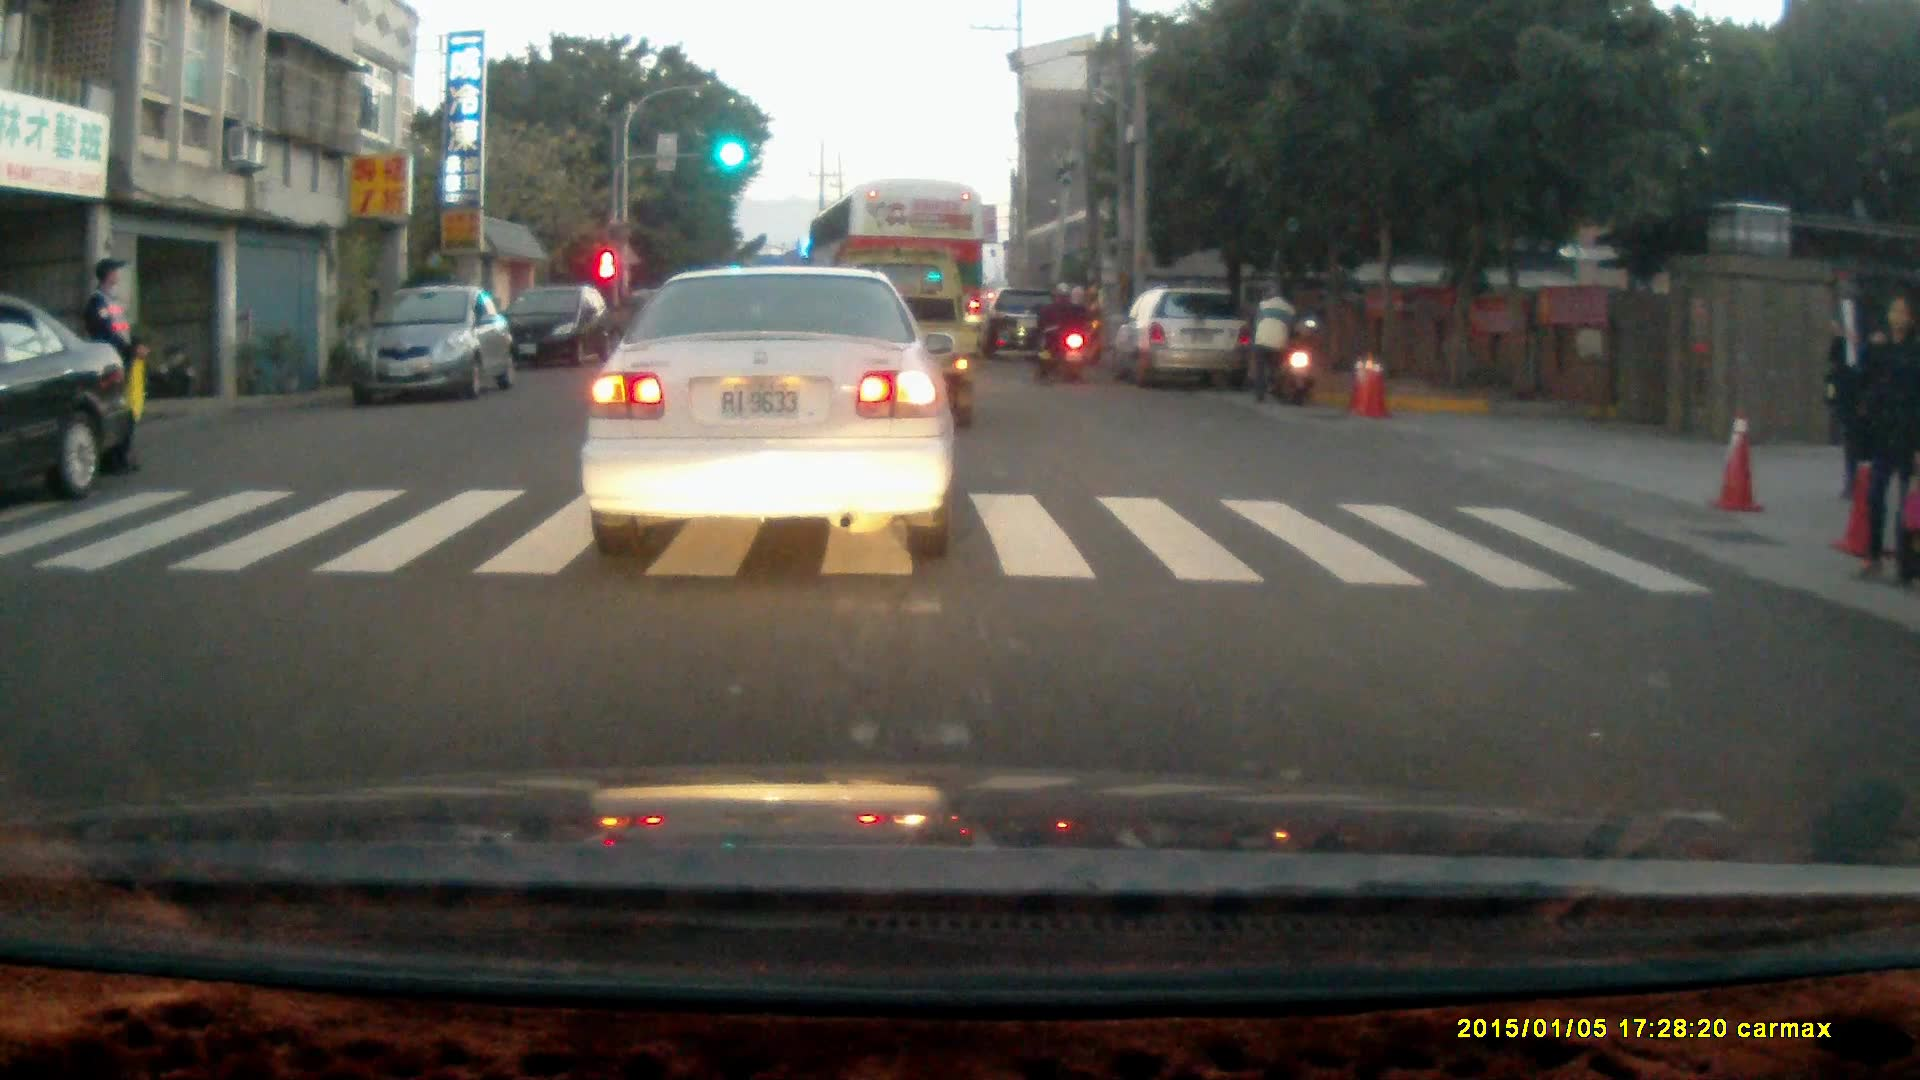pedestrian: (1841, 293, 1920, 584), (79, 255, 144, 477), (1827, 291, 1877, 500), (1247, 281, 1295, 405)
rider: (1029, 277, 1087, 386)
vehicle: (574, 262, 957, 558), (805, 178, 985, 383), (1, 294, 136, 508), (349, 286, 515, 408), (1118, 287, 1254, 389), (501, 283, 619, 369), (982, 287, 1066, 358)
